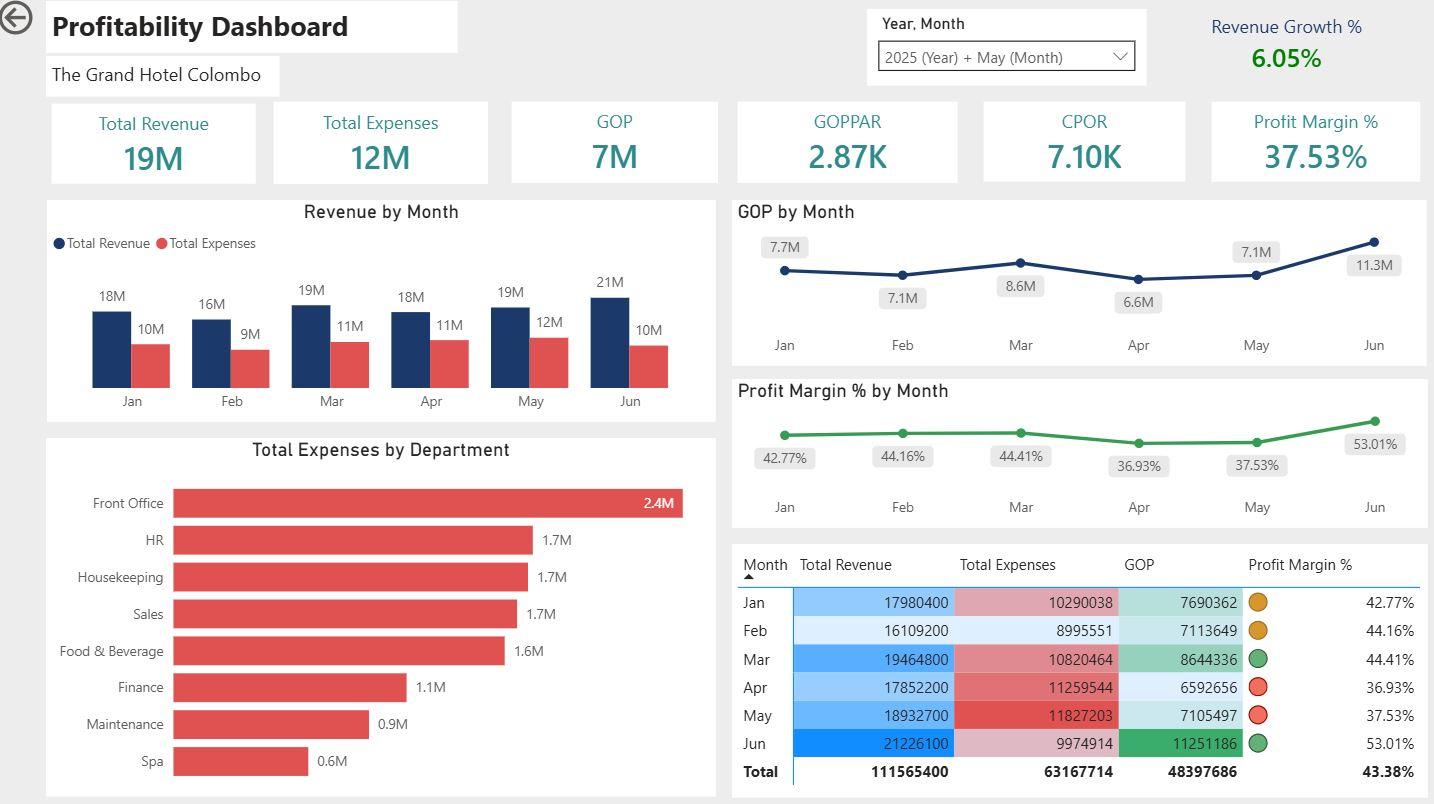

Layout of this report page (visuals, bound fields, positions):
{"tool":"powerbi","page":{"name":"Financial Performance","canvas":[1280,720],"ordinal":2},"visuals":[{"type":"cardVisual","fields":{"Data":["Measure.Total Revenue"]},"box":[47,91.3,191.5,81.6],"z":0},{"type":"cardVisual","fields":{"Data":["Measure.GOP"]},"box":[454.9,89.6,193.3,82.5],"z":1000},{"type":"cardVisual","fields":{"Data":["Measure.GOPPAR"]},"box":[655.3,89.6,205.7,82.5],"z":2000},{"type":"cardVisual","fields":{"Data":["Measure.Cost Per Occupied Room"]},"box":[873.4,89.6,189.8,81.6],"z":3000},{"type":"textbox","box":[47,5.3,365.3,46.1],"z":4000},{"type":"slicer","fields":{"Values":["DateTable.Year","DateTable.Month"]},"box":[775,12.7,247.6,67.5],"z":5000},{"type":"textbox","box":[47,53.8,207.5,36.2],"z":6000},{"type":"cardVisual","fields":{"Data":["Measure.Total Expenses"]},"box":[243.8,89.6,200.4,83.3],"z":8000},{"type":"cardVisual","fields":{"Data":["Measure.Profit Margin %"]},"box":[1075.6,89.6,196,81.6],"z":9000},{"type":"clusteredColumnChart","title":"Revenue by Month","fields":{"Category":["DateTable.Month"],"Y":["Measure.Total Revenue","Measure.Total Expenses"]},"box":[48,182,593,196.7],"z":10000},{"type":"lineChart","fields":{"Category":["DateTable.Month"],"Y":["Measure.GOP"]},"box":[655.3,181.8,616.3,147.2],"z":11000},{"type":"barChart","fields":{"Category":["Expenses.Department"],"Y":["Measure.Total Expenses"]},"box":[47,392.8,594.1,318.3],"z":12000},{"type":"pivotTable","fields":{"Values":["Measure.Total Revenue","Measure.Total Expenses","Measure.GOP","Measure.Profit Margin %"],"Rows":["DateTable.Month"]},"box":[655.7,486.4,616.5,225.1],"z":13000},{"type":"lineChart","fields":{"Y":["Measure.Profit Margin %"],"Category":["DateTable.Month"]},"box":[655.3,340.5,617.1,132.1],"z":14000},{"type":"cardVisual","fields":{"Data":["Measure.Revenue Growth %"]},"box":[1032.4,0,230.9,86.1],"z":15000},{"type":"actionButton","box":[0,0,100,40],"z":15001}]}

Visuals, with their boxes in screenshot pixels (x1, y1, x2, y2), scaled from the page's 1280x720 canvas onto the 1434x804 screenshot:
cardVisual - Measure.Total Revenue: (x1=53, y1=102, x2=267, y2=193)
cardVisual - Measure.GOP: (x1=510, y1=100, x2=726, y2=192)
cardVisual - Measure.GOPPAR: (x1=734, y1=100, x2=965, y2=192)
cardVisual - Measure.Cost Per Occupied Room: (x1=978, y1=100, x2=1191, y2=191)
textbox: (x1=53, y1=6, x2=462, y2=57)
slicer - DateTable.Year x DateTable.Month: (x1=868, y1=14, x2=1146, y2=90)
textbox: (x1=53, y1=60, x2=285, y2=100)
cardVisual - Measure.Total Expenses: (x1=273, y1=100, x2=498, y2=193)
cardVisual - Measure.Profit Margin %: (x1=1205, y1=100, x2=1425, y2=191)
"Revenue by Month" clusteredColumnChart: (x1=54, y1=203, x2=718, y2=423)
lineChart - DateTable.Month x Measure.GOP: (x1=734, y1=203, x2=1425, y2=367)
barChart - Expenses.Department x Measure.Total Expenses: (x1=53, y1=439, x2=718, y2=794)
pivotTable - Measure.Total Revenue x Measure.Total Expenses: (x1=735, y1=543, x2=1425, y2=795)
lineChart - Measure.Profit Margin % x DateTable.Month: (x1=734, y1=380, x2=1425, y2=528)
cardVisual - Measure.Revenue Growth %: (x1=1157, y1=0, x2=1415, y2=96)
actionButton: (x1=0, y1=0, x2=112, y2=45)
